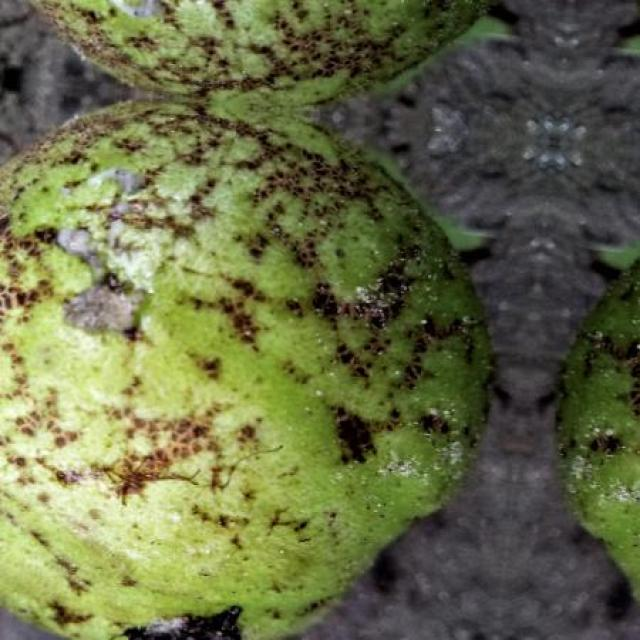Scab: (0, 94, 490, 640), (36, 0, 484, 103)
